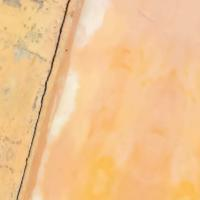crack: (15, 0, 92, 199)
